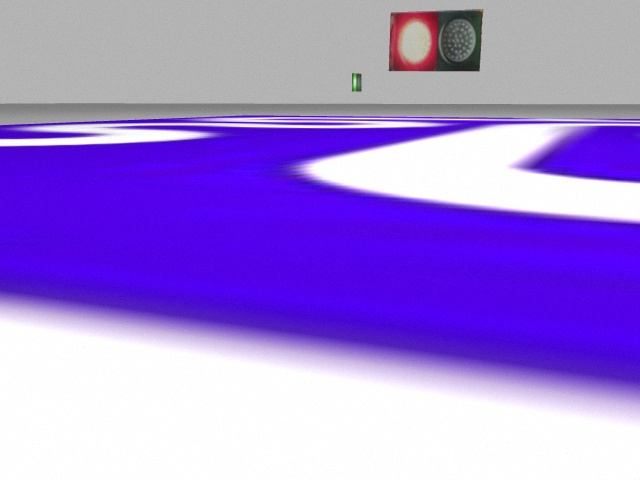red: (390, 11, 439, 70)
